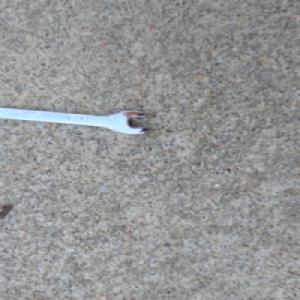Wrench: (0, 106, 152, 136)
